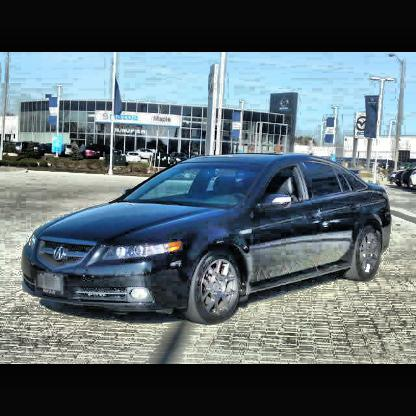Acura TL Type-S 2008: (21, 152, 392, 326)
